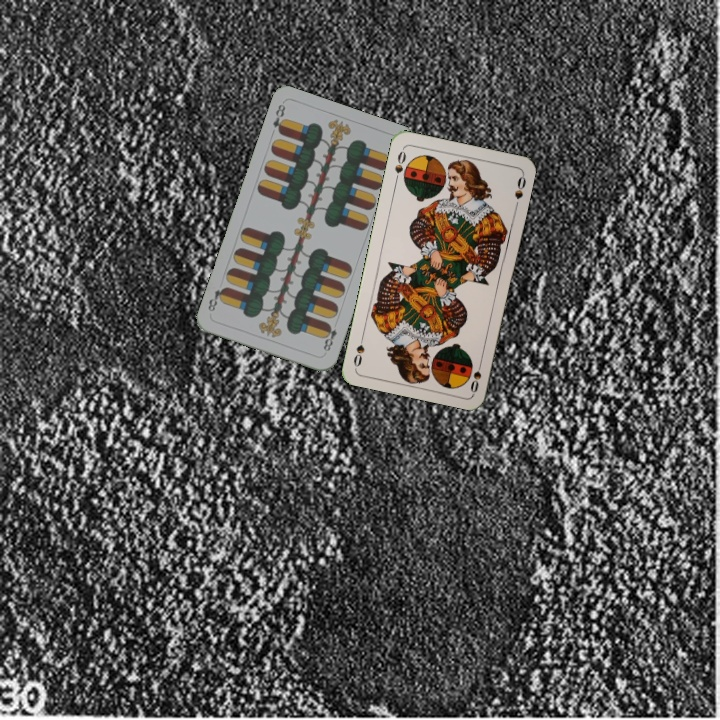E8: (319, 320, 340, 356), (269, 100, 289, 137)
SO: (466, 355, 485, 395), (391, 145, 409, 185)
